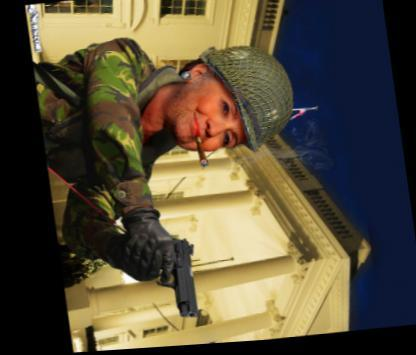pistol: (120, 234, 194, 322)
